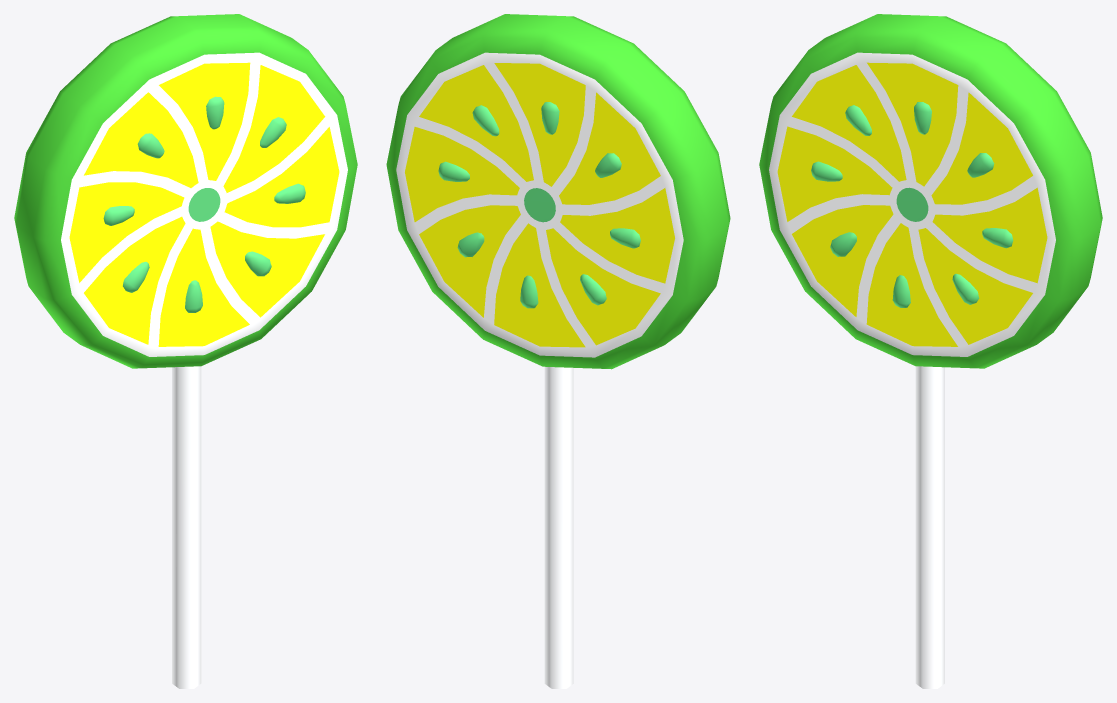
File: Lollipop_19.glb
3 views of the same model, side by side, from view 1: azimuth 30°, elevation 25°; view 2: azimuth 150°, elevation 25°; view 3: azimuth 330°, elevation 25° (orthographic).
Visible parts, largest first — view 1: Lollipop_19; view 2: Lollipop_19; view 3: Lollipop_19.
Part boxes in pixels (<box>): Lollipop_19: <box>14,14,357,688</box>; Lollipop_19: <box>386,14,730,688</box>; Lollipop_19: <box>759,14,1102,688</box>.
Size of the model in its own units: 2.88 by 5.63 by 0.6702.
Materials: 1 (1 with a texture image).
